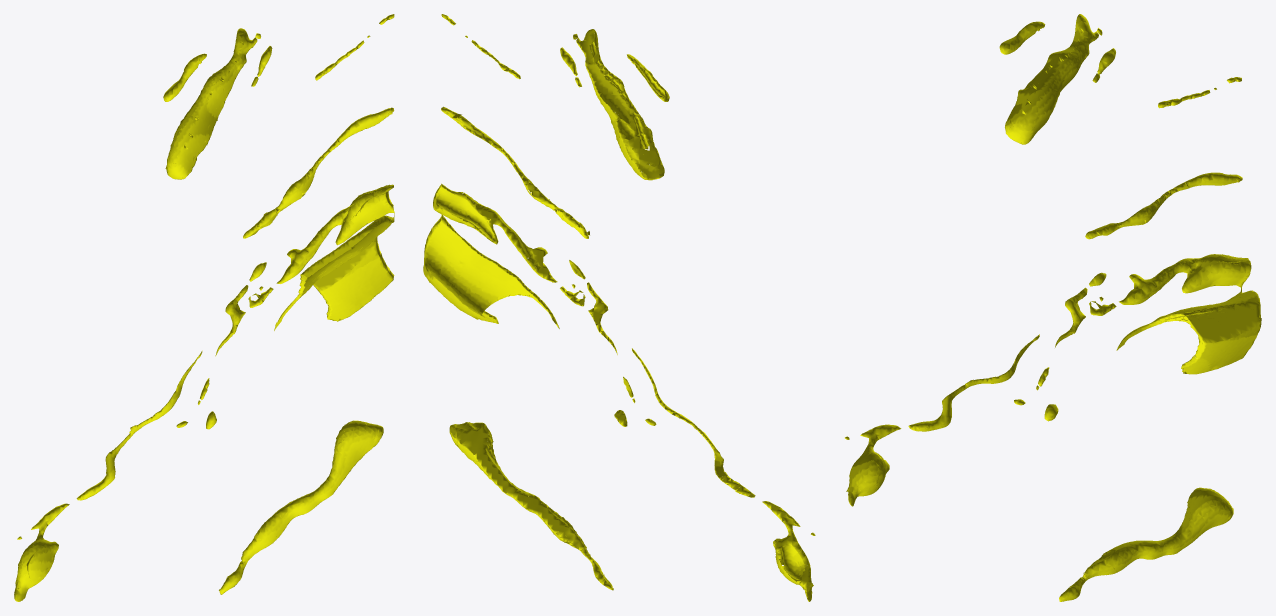
3 views of the same model, side by side, from view 1: azimuth 30°, elevation 25°; view 2: azimuth 150°, elevation 25°; view 3: azimuth 330°, elevation 25° (orthographic). The views are drawn at different scales.
Visible parts, largest first — view 1: Switch_Switch_osgPicked_gmeGeoEntityGeode_Geometry_Geometry_ (×7), Switch_Switch_osgPicked_gmeGeoEntityGeode_Geometry_0; view 2: Switch_Switch_osgPicked_gmeGeoEntityGeode_Geometry_Geometry_ (×5), Switch_Switch_osgPicked_gmeGeoEntityGeode_Geometry_0; view 3: Switch_Switch_osgPicked_gmeGeoEntityGeode_Geometry_Geometry_ (×7), Switch_Switch_osgPicked_gmeGeoEntityGeode_Geometry_0.
Part boxes in pixels (box(x1,y1,x2,y2)): Switch_Switch_osgPicked_gmeGeoEntityGeode_Geometry_Geometry_ (×7): box(76, 28, 394, 594); Switch_Switch_osgPicked_gmeGeoEntityGeode_Geometry_0: box(14, 503, 69, 601); Switch_Switch_osgPicked_gmeGeoEntityGeode_Geometry_Geometry_ (×5): box(423, 29, 755, 590); Switch_Switch_osgPicked_gmeGeoEntityGeode_Geometry_0: box(762, 501, 813, 601); Switch_Switch_osgPicked_gmeGeoEntityGeode_Geometry_Geometry_ (×7): box(908, 14, 1261, 601); Switch_Switch_osgPicked_gmeGeoEntityGeode_Geometry_0: box(846, 424, 901, 506).
Size of what is drawn, in the model's own units: 36815 by 52356 by 3623.
